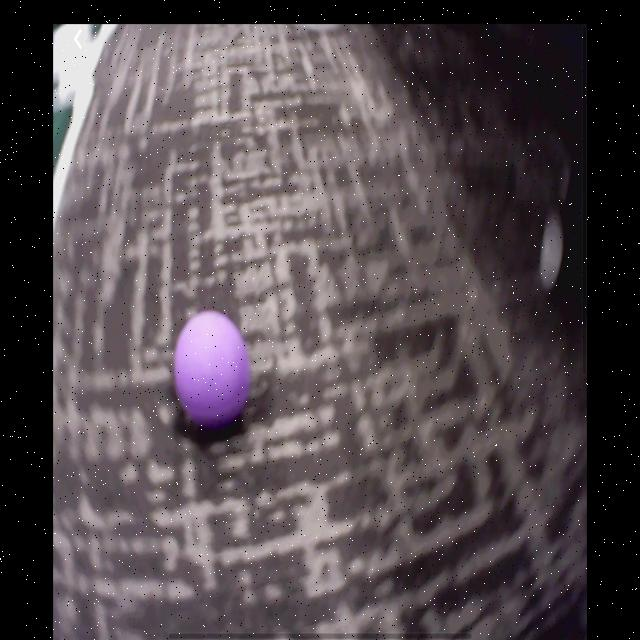ball: (176, 311, 247, 424)
